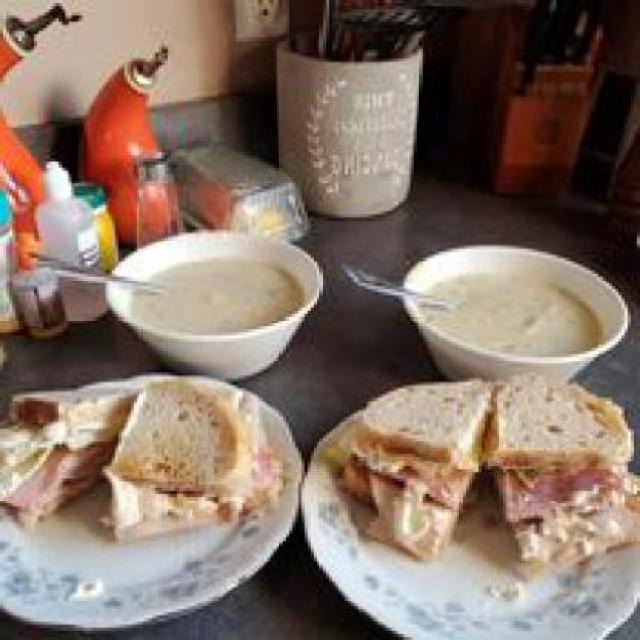clam chowder: (102, 218, 635, 354)
club sandwich: (3, 354, 631, 563)
